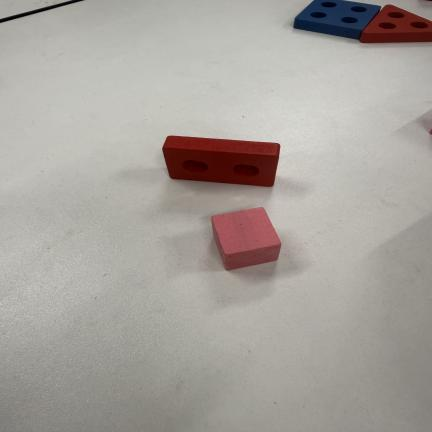BuildingBlocks: (163, 136, 279, 186), (212, 208, 280, 270), (294, 0, 380, 39), (360, 5, 431, 42)
